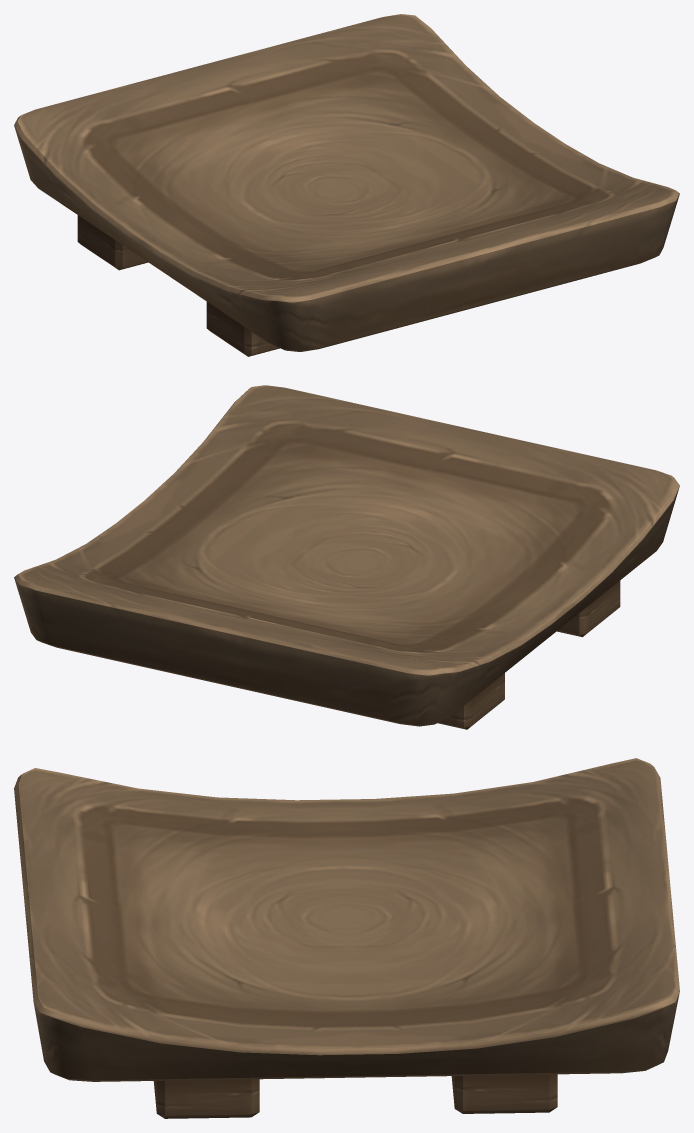
Rendered from Plate_01_Free.fbx.
3 renders of one model, top to bottom at view 1: azimuth 30°, elevation 25°; view 2: azimuth 150°, elevation 25°; view 3: azimuth 270°, elevation 25°, orthographic. The views are drawn at different scales.
Parts seen in each view (by area): view 1: Plate_01_Free; view 2: Plate_01_Free; view 3: Plate_01_Free.
Part boxes in pixels (x1,y1,x2,y2): Plate_01_Free: (14, 14, 679, 356); Plate_01_Free: (14, 385, 679, 729); Plate_01_Free: (14, 758, 679, 1118).
Bounding box in the file's own units: 28.52 × 6.05 × 30.68.
